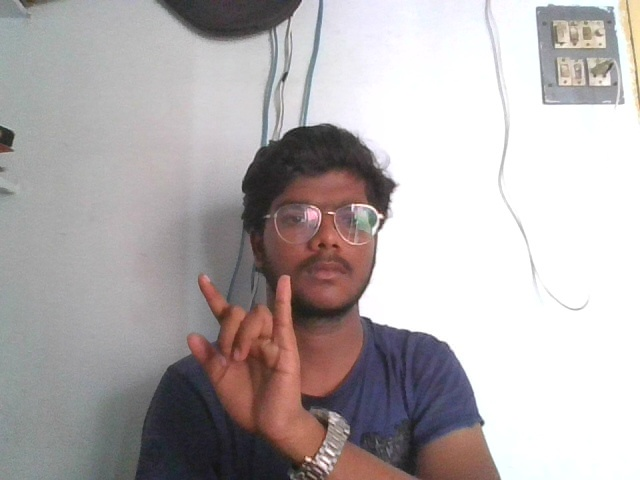IloveYou: (180, 268, 302, 443)
